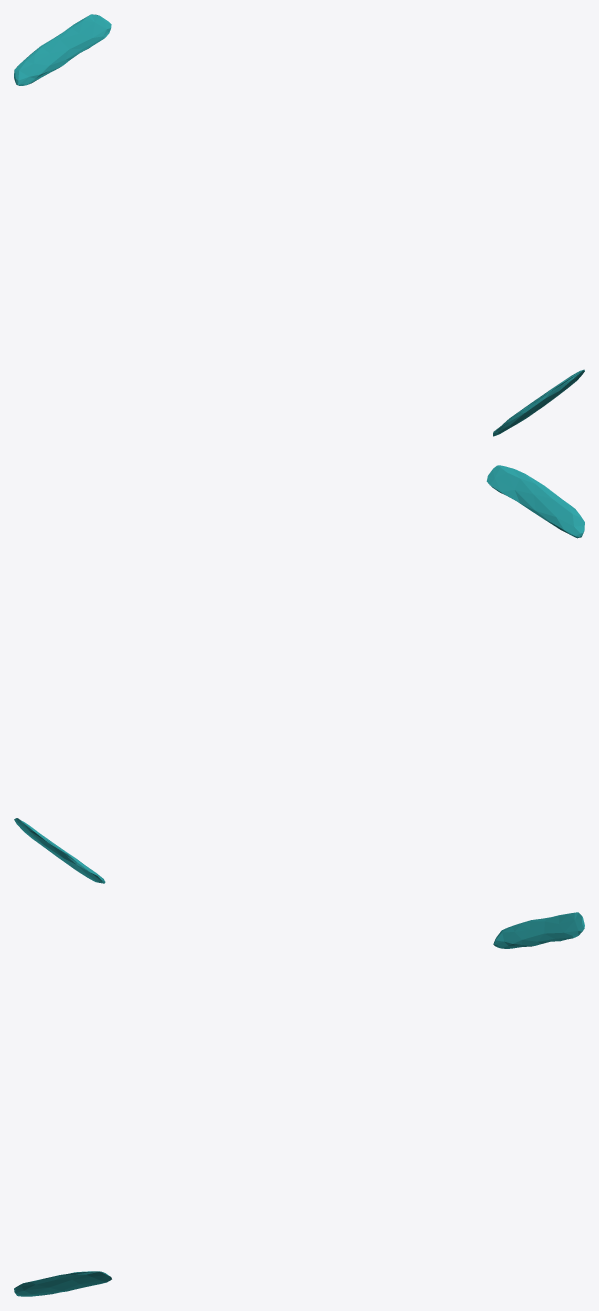
3 views of the same model, one above another, from view 1: azimuth 30°, elevation 25°; view 2: azimuth 150°, elevation 25°; view 3: azimuth 330°, elevation 25° (orthographic).
Visible parts, largest first — view 1: 312782586.obj; view 2: 312782586.obj; view 3: 312782586.obj.
Part boxes in pixels (left/top/right/bottom): 312782586.obj: left=14, top=14, right=584, bottom=436; 312782586.obj: left=14, top=465, right=584, bottom=883; 312782586.obj: left=14, top=912, right=584, bottom=1296.
Bounding box in the file's own units: 886 × 465 × 8072.
